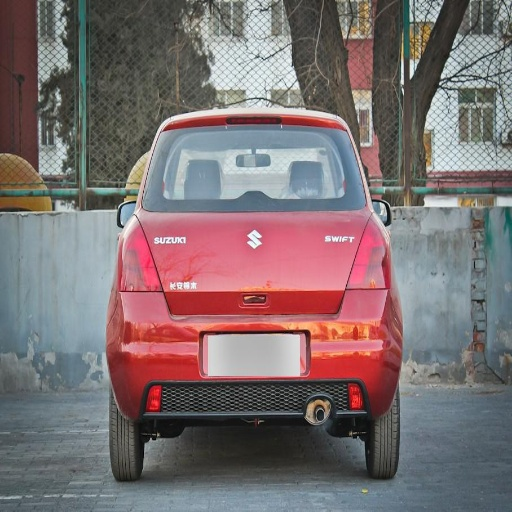back_bumper: (110, 264, 402, 422)
trunk: (121, 192, 368, 337)
